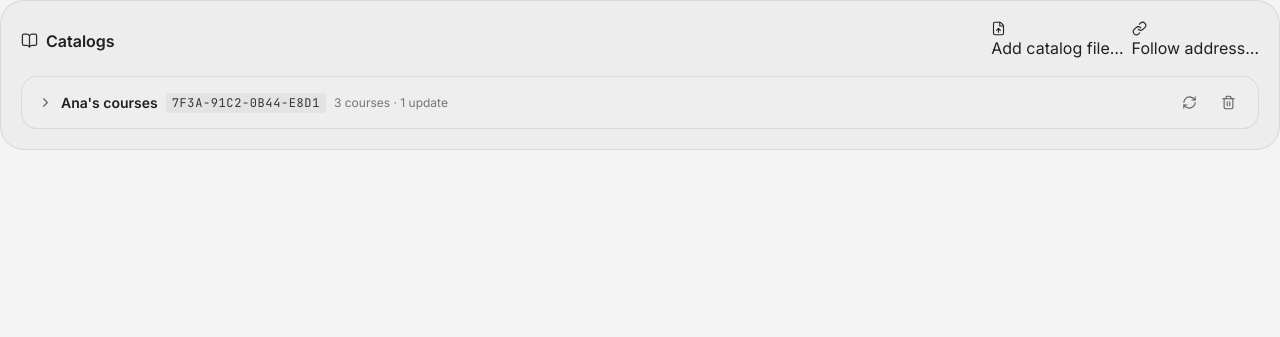
it: catalogs › lists a catalog with its fingerprint and entries by status
Click the button "Ana's courses 7F3A-91C2-0B44-E8D1 3 courses · 1 update" at (109, 102), box [38,92,1164,112]
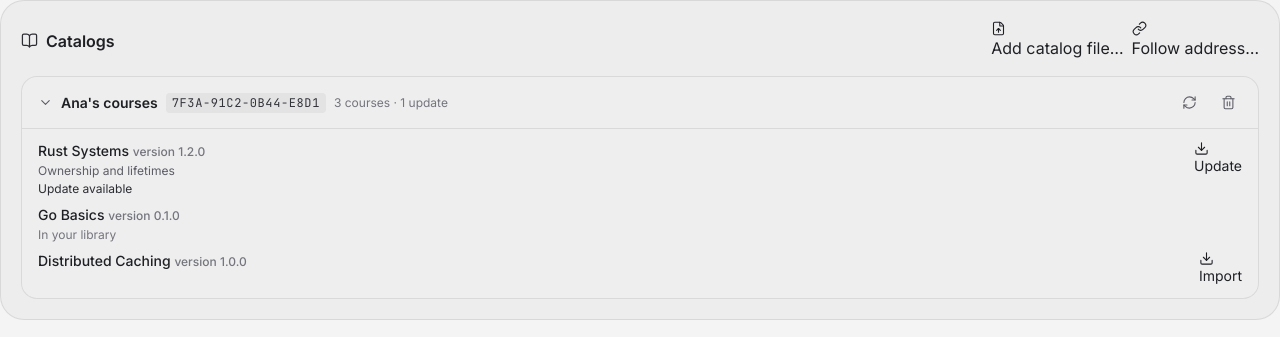
Expected: the list item that starts with "Rust Systems" shows "Update available", [38,181,132,196]
Expected: the button "Update" is shown, [1194,141,1242,176]
Expected: the list item "Go Basics version 0.1.0 In your library" is shown, [38,206,180,242]
